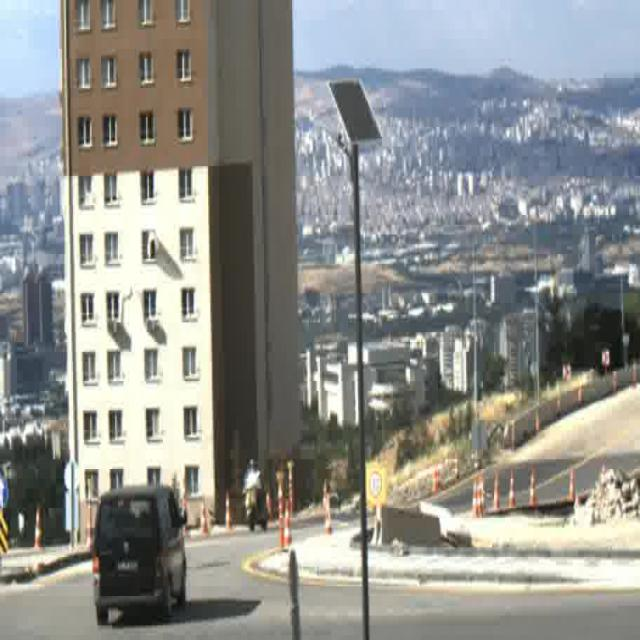Car: (93, 483, 185, 624)
Motorcycle: (241, 455, 271, 536)
